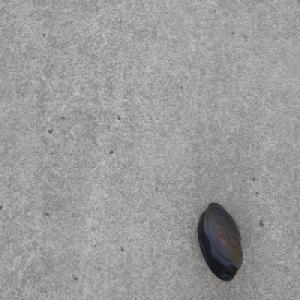FuelCap: (196, 199, 244, 282)
